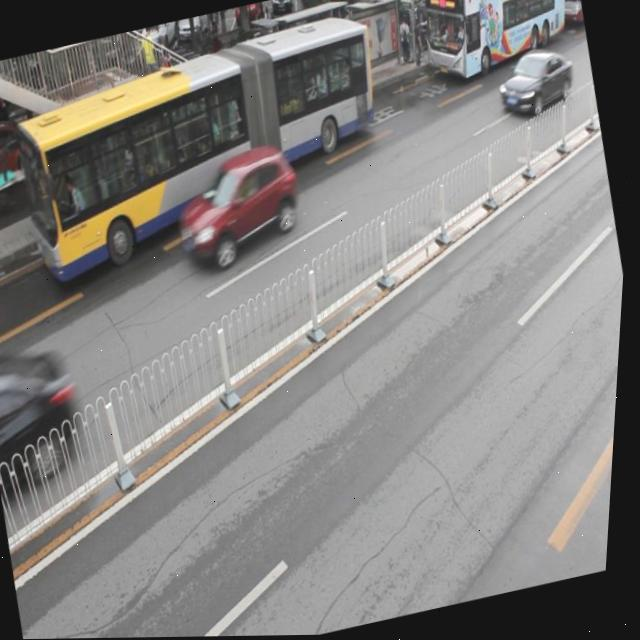car: (167, 139, 311, 274), (0, 337, 91, 497), (37, 85, 138, 171), (491, 42, 581, 125), (135, 42, 221, 125), (233, 24, 308, 94), (0, 111, 48, 200)
van: (4, 14, 404, 287), (406, 0, 584, 89)
